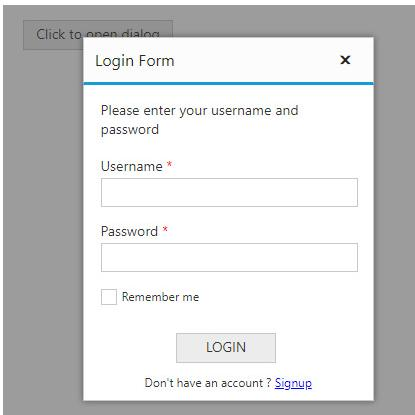button: (174, 331, 278, 364)
checkbox: (99, 287, 119, 307)
checkbox_with_label: (97, 286, 200, 308)
field: (100, 176, 359, 209), (99, 242, 359, 274)
field_with_label: (98, 159, 362, 211), (98, 225, 361, 275)
